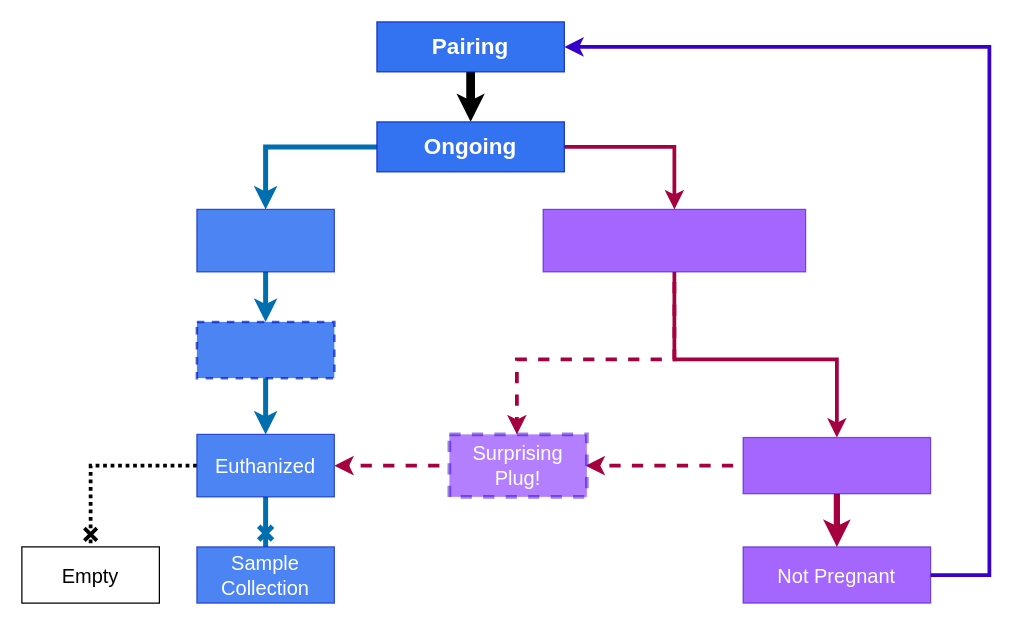
Image size: 1023x625. Some labels were removed from this diagram. Here are the shapes that lost their labels. From the top down, the box of each, then its label:
(196, 208, 334, 272): Plugged
(542, 208, 806, 272): Not Observed (Waiting for confirmation)
(195, 320, 335, 379): Plug Confirmed
(742, 436, 931, 494): Not Observed (Confirmed)
